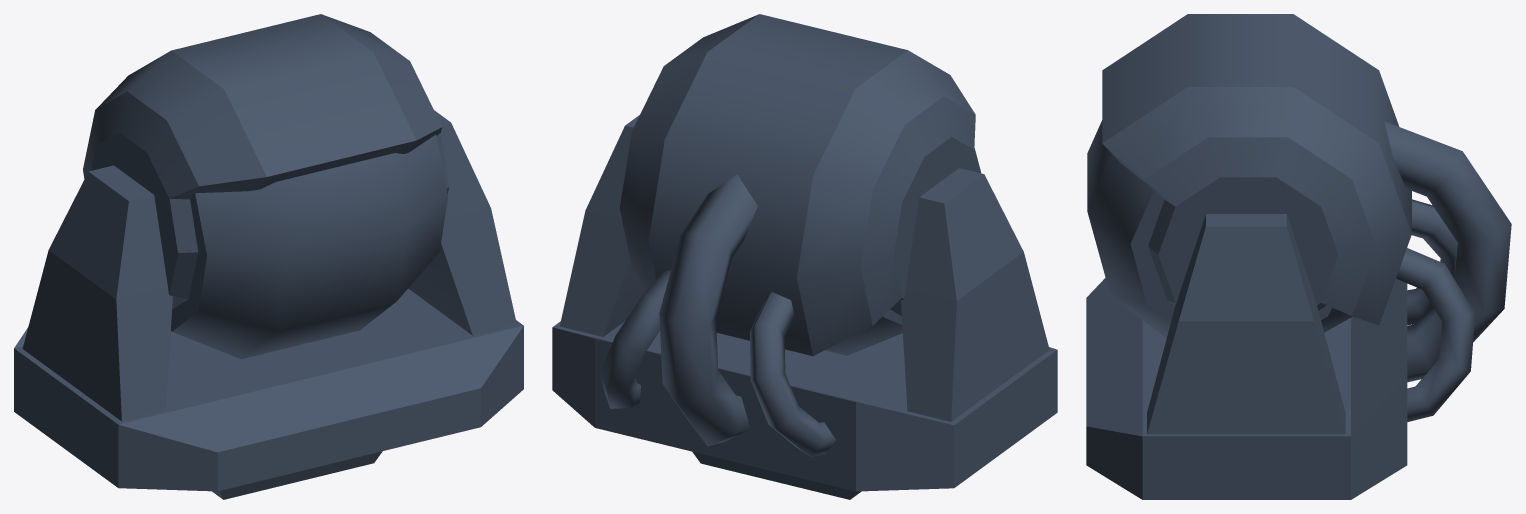
File: acs17_part1_Device3.fbx
3 views of the same model, side by side, from view 1: azimuth 30°, elevation 25°; view 2: azimuth 150°, elevation 25°; view 3: azimuth 270°, elevation 25° (orthographic).
Visible parts, largest first — view 1: Box087, Device3, rotor, Box097, Box088; view 2: Device3, Box087, Box097, Cylinder068, Box088, Cylinder132, Cylinder129, rotor; view 3: Device3, Box087, Box088, Cylinder068, rotor, Cylinder129, Cylinder132.
Part boxes in pixels (box(x1,y1,x2,y2)): Box087: box(14, 288, 523, 499); Device3: box(83, 14, 449, 308); rotor: box(171, 134, 447, 359); Box097: box(22, 165, 172, 421); Box088: box(408, 110, 516, 335); Device3: box(619, 14, 978, 355); Box087: box(552, 321, 1057, 499); Box097: box(901, 168, 1049, 421); Cylinder068: box(659, 174, 757, 446); Box088: box(560, 115, 646, 336); Cylinder132: box(750, 292, 835, 457); Cylinder129: box(600, 270, 670, 408); rotor: box(825, 147, 981, 355); Device3: box(1102, 14, 1411, 325); Box087: box(1086, 278, 1407, 499); Box088: box(1147, 214, 1345, 434); Cylinder068: box(1384, 121, 1511, 382); rotor: box(1087, 120, 1352, 337); Cylinder129: box(1396, 248, 1475, 421); Cylinder132: box(1407, 199, 1456, 325).
Bounding box in the file's own units: 149 × 144 × 135.
